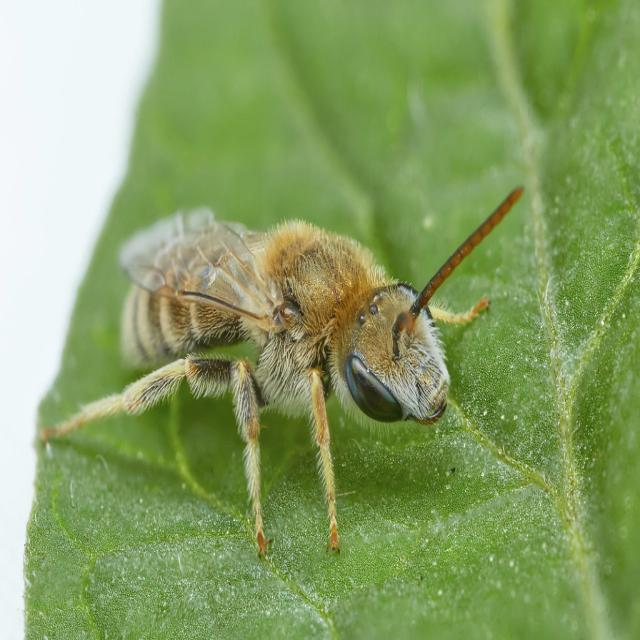Braunsapis: (59, 196, 524, 547)
